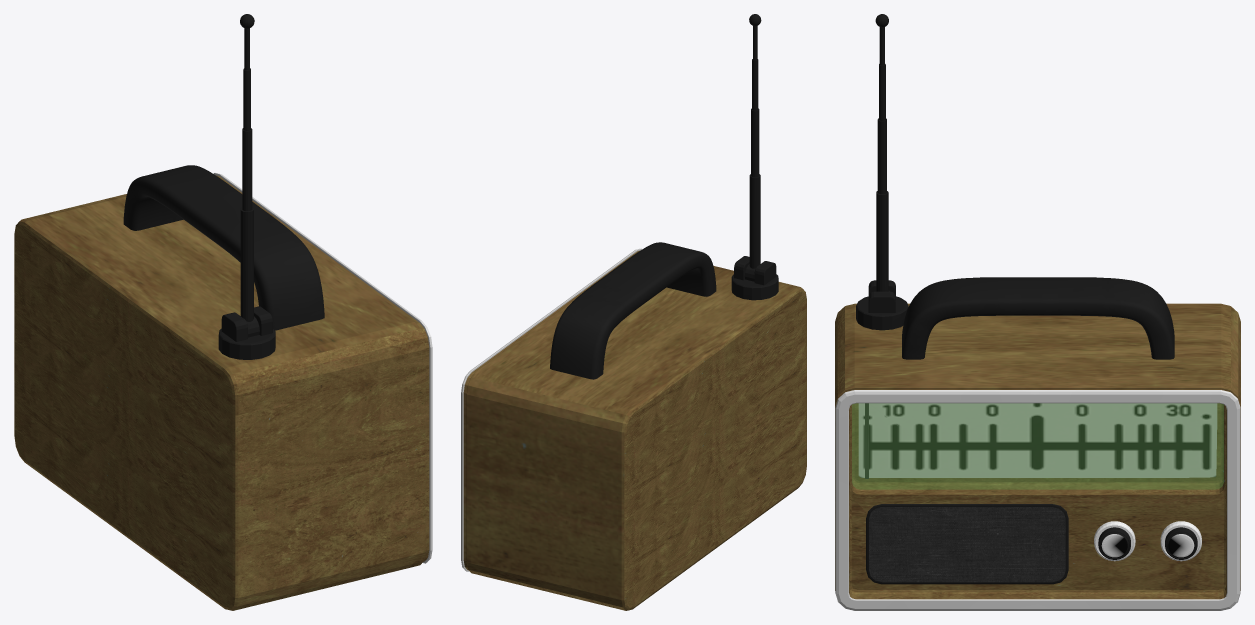
The model's file is Radio01.fbx.
The picture shows the model from 3 angles, left to right: view 1: azimuth 30°, elevation 25°; view 2: azimuth 150°, elevation 25°; view 3: azimuth 270°, elevation 25°; orthographic projection. The views are drawn at different scales.
Visible parts, largest first — view 1: Cube, Cylinder.006; view 2: Cube, Cylinder.006; view 3: Cube, Cylinder.006, Cylinder.004, Cylinder.002, Cylinder.001.
Part boxes in pixels (x1,y1,x2,y2): Cube: (14,165,432,610); Cylinder.006: (240,14,259,337); Cube: (461,242,806,610); Cylinder.006: (744,14,761,281); Cube: (835,277,1240,610); Cylinder.006: (874,14,889,291); Cylinder.004: (1094,521,1201,561); Cylinder.002: (1098,527,1130,559); Cylinder.001: (1165,527,1197,559).
Size of the model in its own units: 22.03 by 60.73 by 42.46.
